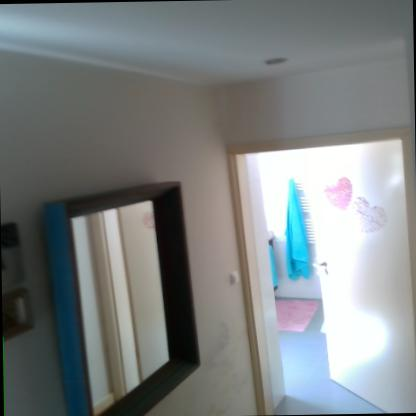semi: (220, 117, 415, 416)
